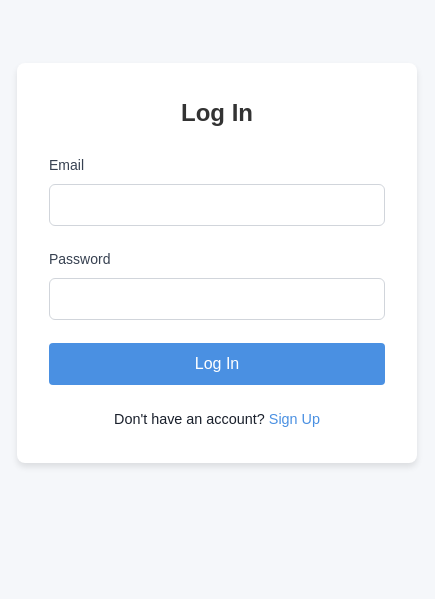
LogIn Component › displays validation errors for empty fields
This screenshot has width=435, height=599.
Click the button "Log In": (217, 364) left=49, top=343, right=385, bottom=385
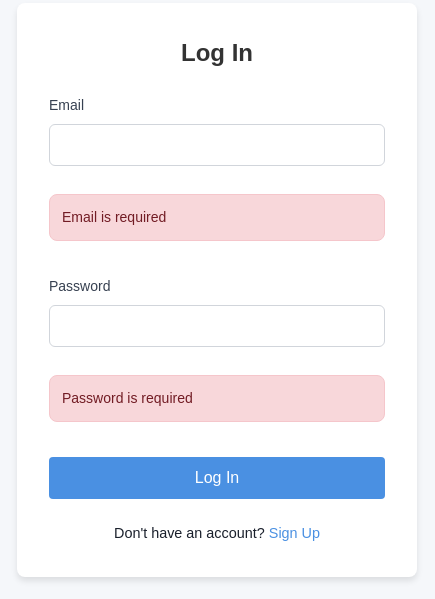
expect the text "Email is required" is shown: met, box left=49, top=194, right=385, bottom=241
expect the text "Password is required" is shown: met, box left=49, top=375, right=385, bottom=422
